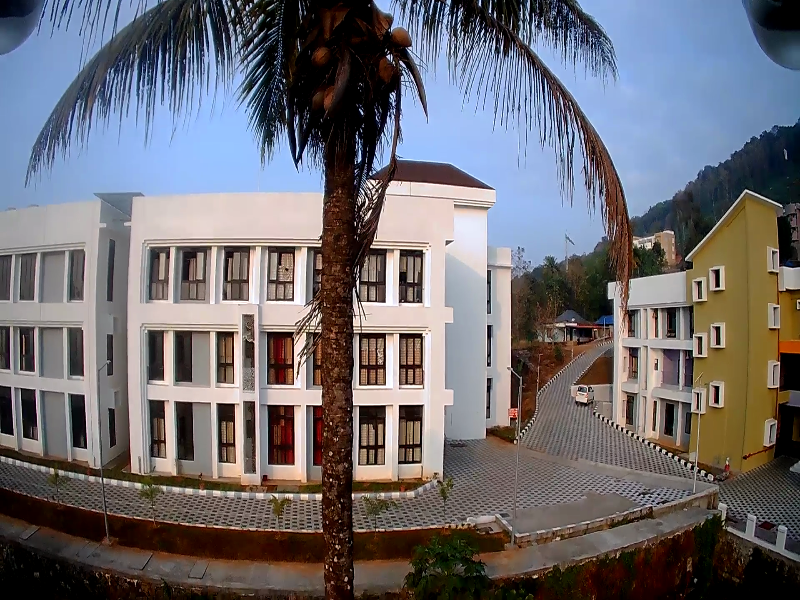coconut: (369, 57, 407, 89), (389, 22, 417, 55), (313, 43, 334, 73), (321, 87, 341, 115), (308, 87, 321, 111)
